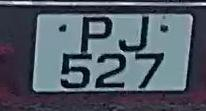2: (92, 50, 133, 92)
5: (55, 53, 94, 92)
7: (128, 49, 171, 90)
J: (114, 13, 154, 53)
P: (76, 14, 115, 55)
